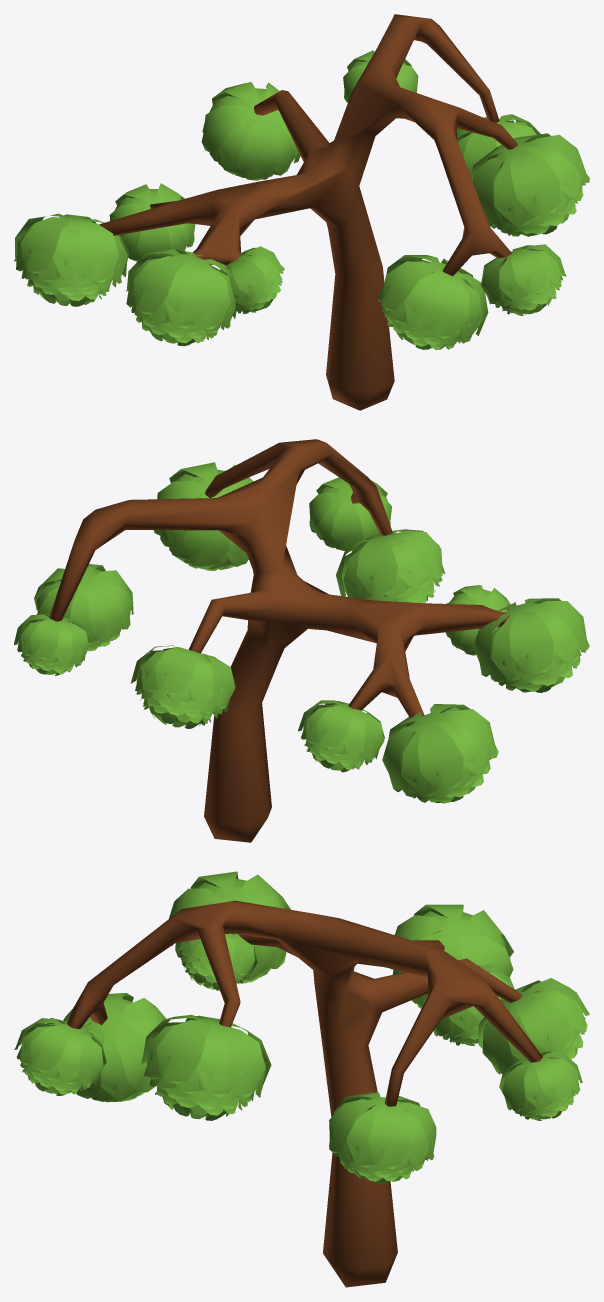
File: Vegetree.fbx
The picture shows the model from 3 angles, top to bottom: view 1: azimuth 30°, elevation 25°; view 2: azimuth 150°, elevation 25°; view 3: azimuth 270°, elevation 25°; orthographic projection. The views are drawn at different scales.
Parts seen in each view (by area): view 1: Plane, Cube.009, Cube.005, Cube.004, Cube.007, Cube.002, Cube.008, Cube.003, Cube.006, Cube, Cube.001; view 2: Plane, Cube.004, Cube.005, Cube.007, Cube.002, Cube, Cube.003, Cube.009, Cube.008, Cube.001, Cube.006; view 3: Plane, Cube.009, Cube, Cube.002, Cube.007, Cube.008, Cube.004, Cube.001, Cube.005, Cube.006, Cube.003.
Boxes of the visible parts, <box> form: Plane: <box>99,14,517,410</box>; Cube.009: <box>471,133,589,236</box>; Cube.005: <box>126,249,240,346</box>; Cube.004: <box>14,213,128,306</box>; Cube.007: <box>377,255,488,349</box>; Cube.002: <box>201,82,300,180</box>; Cube.008: <box>481,244,566,315</box>; Cube.003: <box>109,183,195,261</box>; Cube.006: <box>220,246,284,314</box>; Cube: <box>456,114,540,177</box>; Cube.001: <box>343,50,418,102</box>; Plane: <box>49,439,510,842</box>; Cube.004: <box>382,704,498,803</box>; Cube.005: <box>473,598,589,692</box>; Cube.007: <box>336,529,445,603</box>; Cube.002: <box>130,645,235,728</box>; Cube: <box>34,564,133,651</box>; Cube.003: <box>298,700,384,772</box>; Cube.009: <box>153,462,253,570</box>; Cube.008: <box>309,477,391,551</box>; Cube.001: <box>14,613,89,675</box>; Cube.006: <box>445,585,510,655</box>; Plane: <box>67,900,542,1287</box>; Cube.009: <box>140,1014,271,1120</box>; Cube: <box>329,1092,436,1184</box>; Cube.002: <box>478,978,589,1074</box>; Cube.007: <box>63,993,166,1102</box>; Cube.008: <box>14,1018,106,1095</box>; Cube.004: <box>391,904,513,1008</box>; Cube.001: <box>499,1051,582,1120</box>; Cube.005: <box>169,871,290,983</box>; Cube.006: <box>176,933,257,990</box>; Cube.003: <box>424,964,514,1045</box>.
Size of the model in its own units: 6.9 by 4.8 by 6.53.
